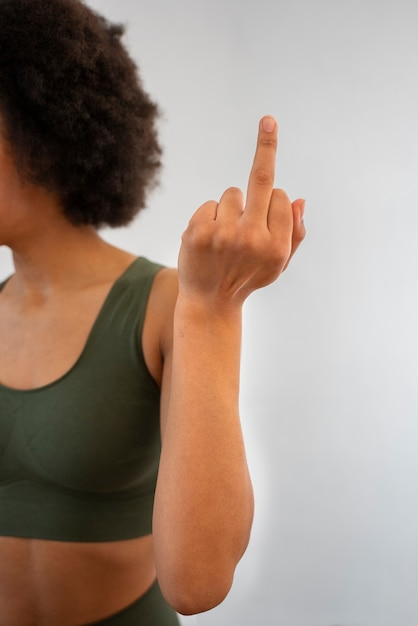insulting_gesture: (174, 111, 315, 307)
